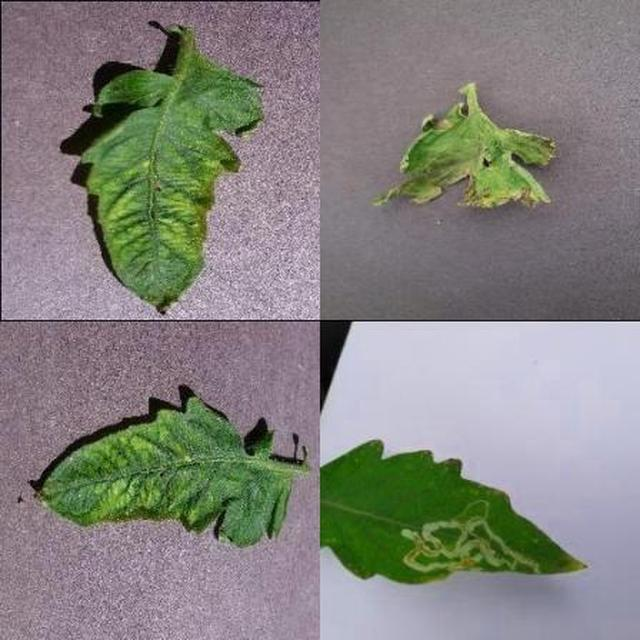Mosaic Virus Leaf: (233, 161, 640, 640)
